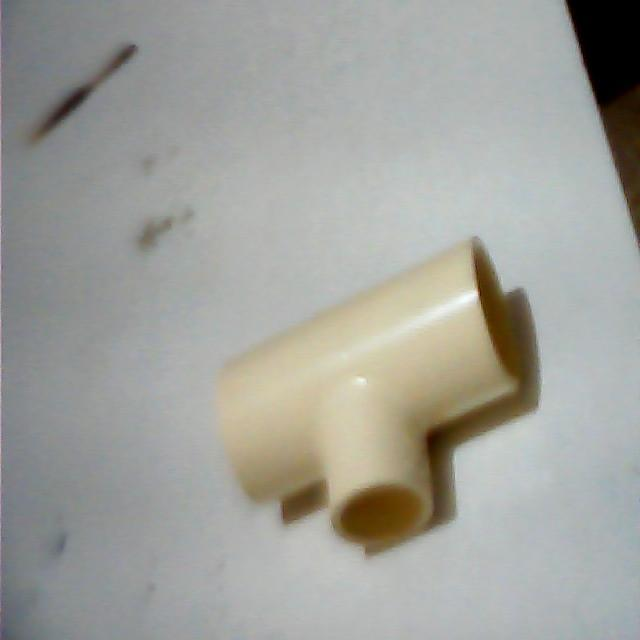T Joint: (215, 237, 526, 558)
